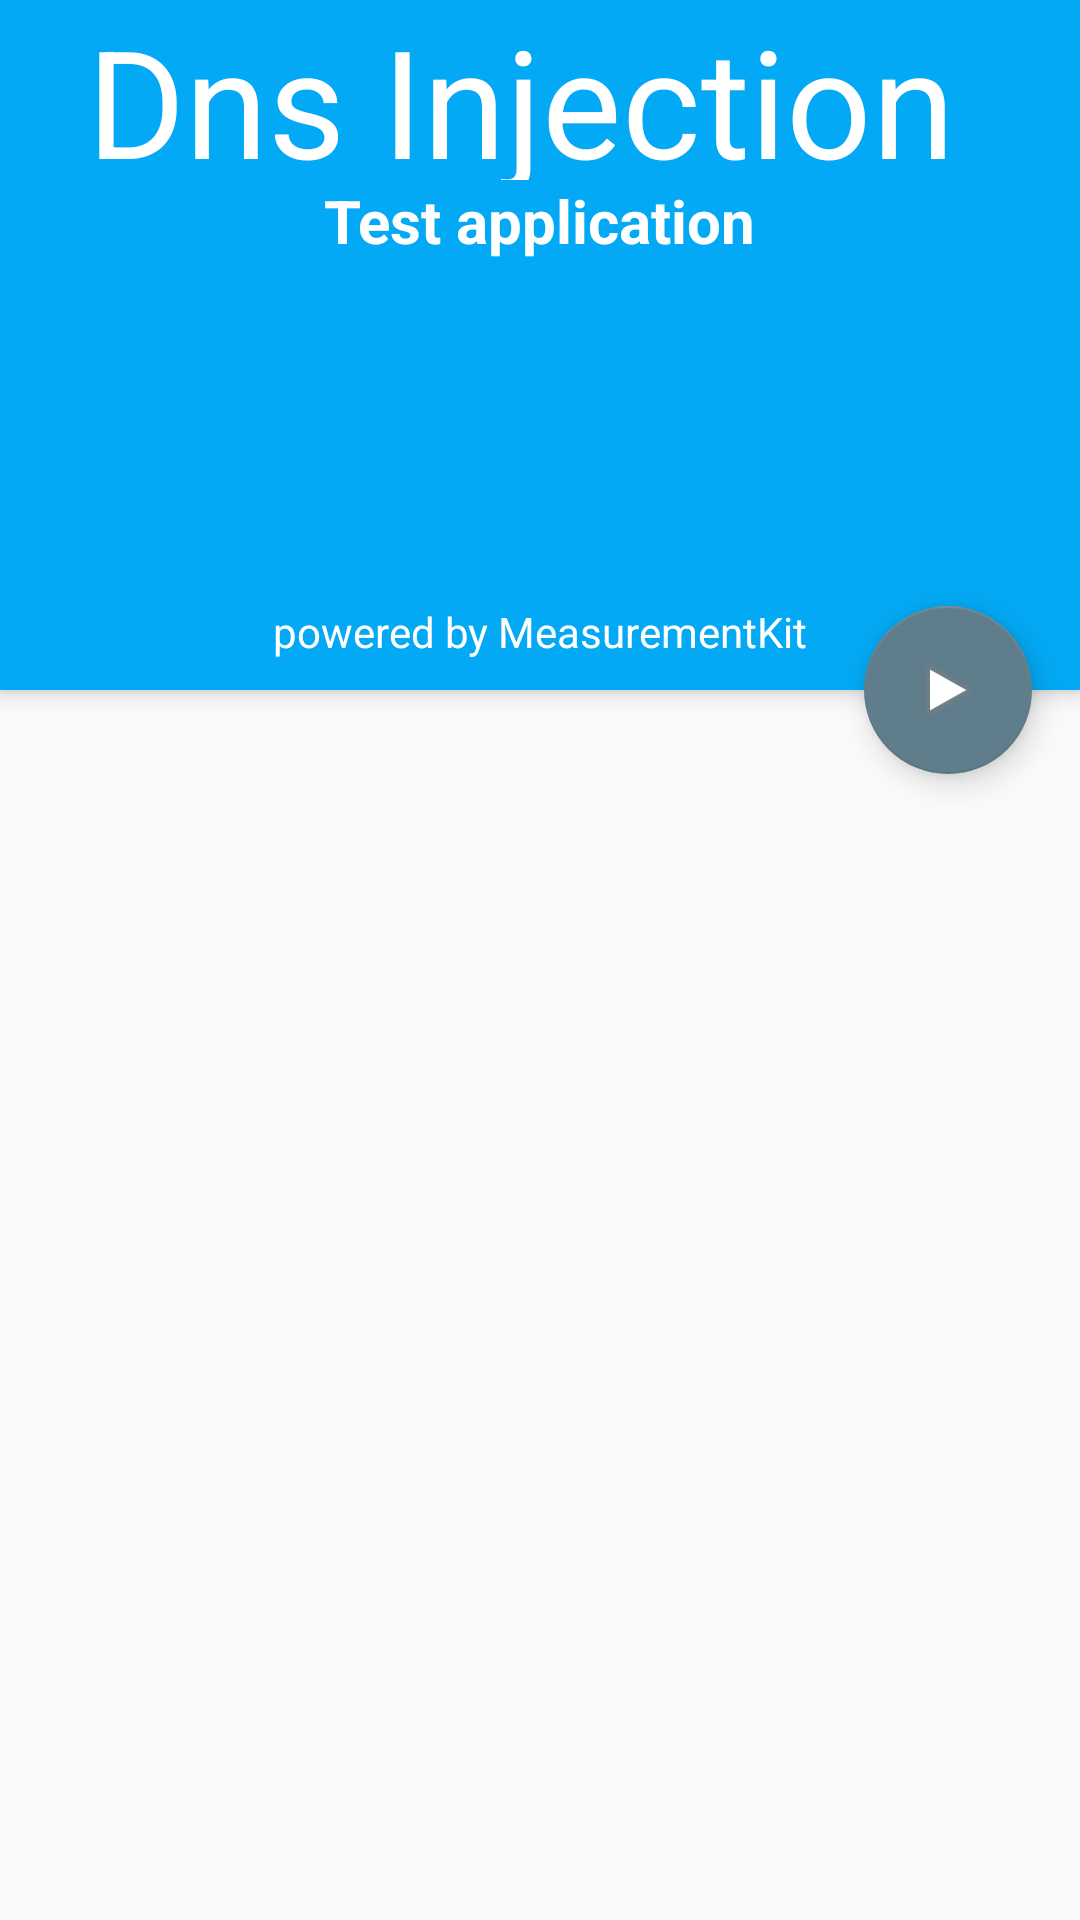

Screen size 1080 × 1920. Icon name, then its center in pixels as (x=x, y=y):
play: (x=948, y=690)
